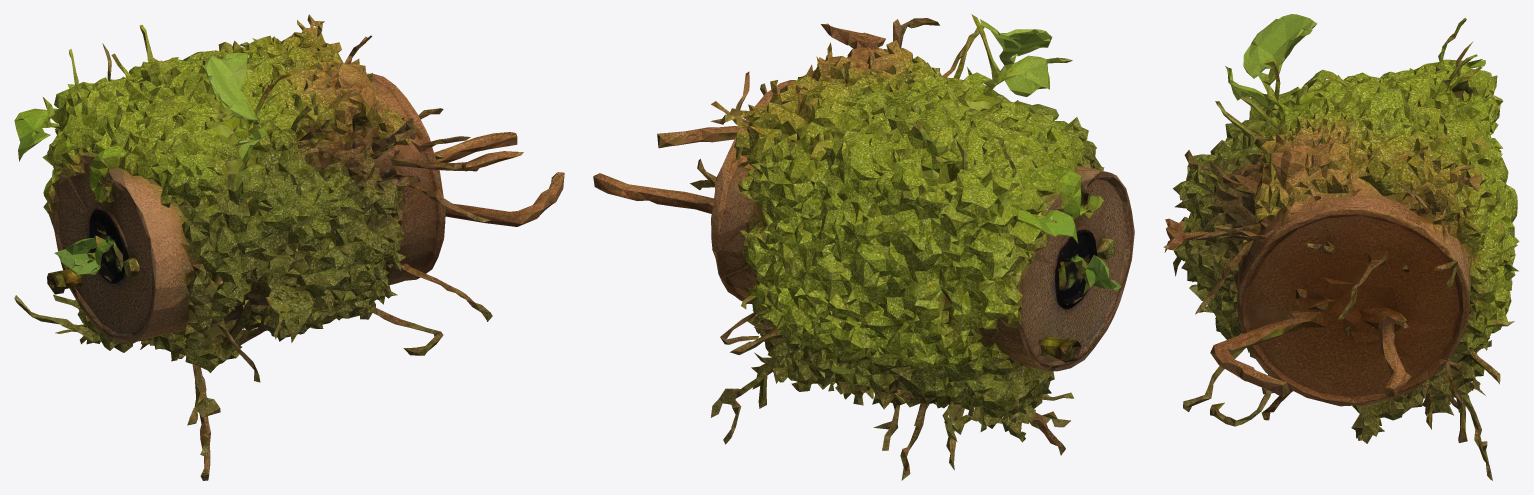
Rendered from wing (254).glb.
The picture shows the model from 3 angles, left to right: view 1: azimuth 30°, elevation 25°; view 2: azimuth 150°, elevation 25°; view 3: azimuth 270°, elevation 25°; orthographic projection. The views are drawn at different scales.
Parts seen in each view (by area): view 1: Hy21_Mesh.obj; view 2: Hy21_Mesh.obj; view 3: Hy21_Mesh.obj.
Boxes of the visible parts, x1,y1,x2,y2 form: Hy21_Mesh.obj: [14, 14, 564, 480]; Hy21_Mesh.obj: [593, 14, 1134, 480]; Hy21_Mesh.obj: [1163, 14, 1519, 480].
Bounding box in the file's own units: 1.95 × 1.58 × 1.23.
Materials: 1 (1 with a texture image).
